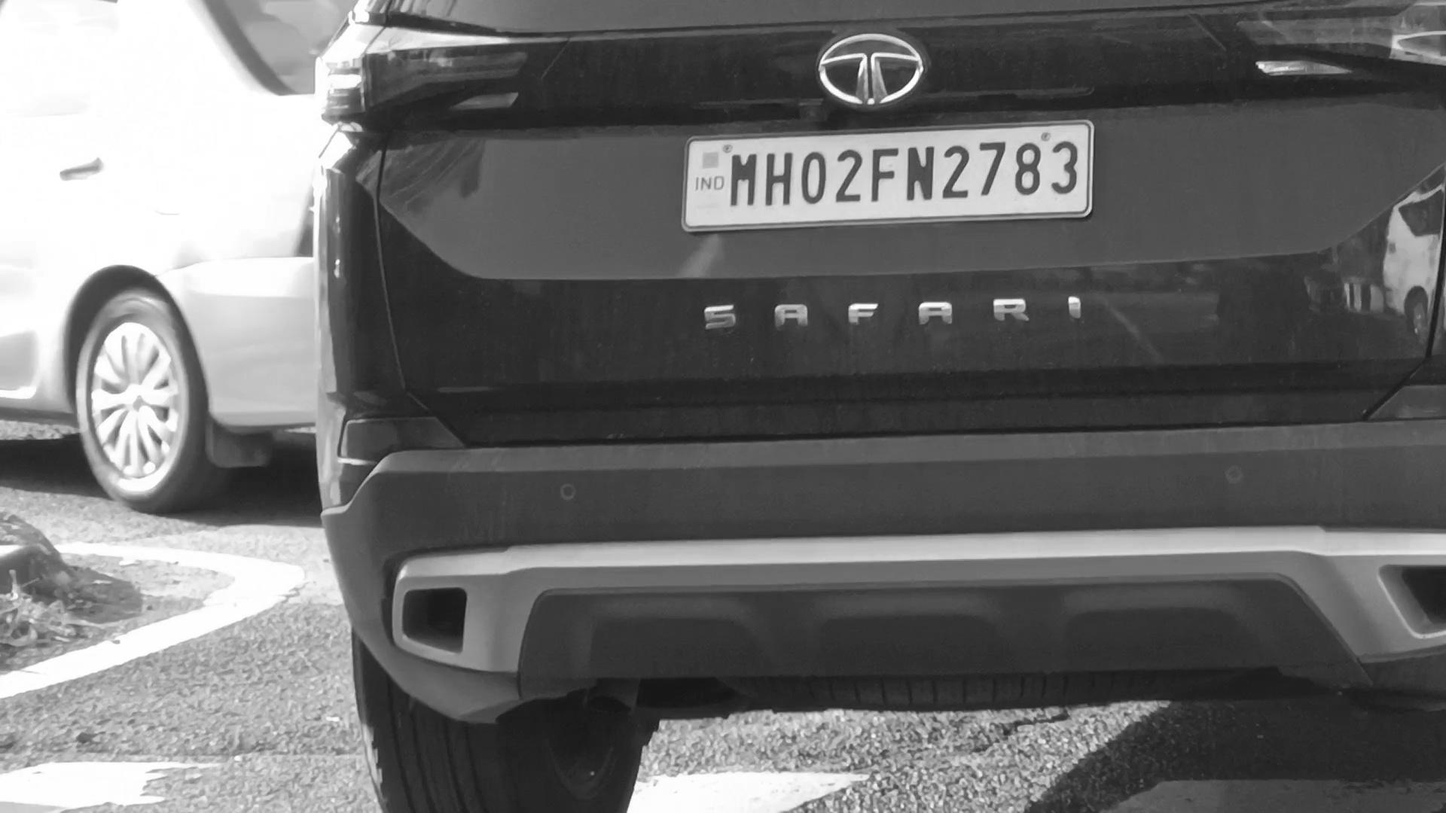number_plate: (695, 139, 1092, 214)
